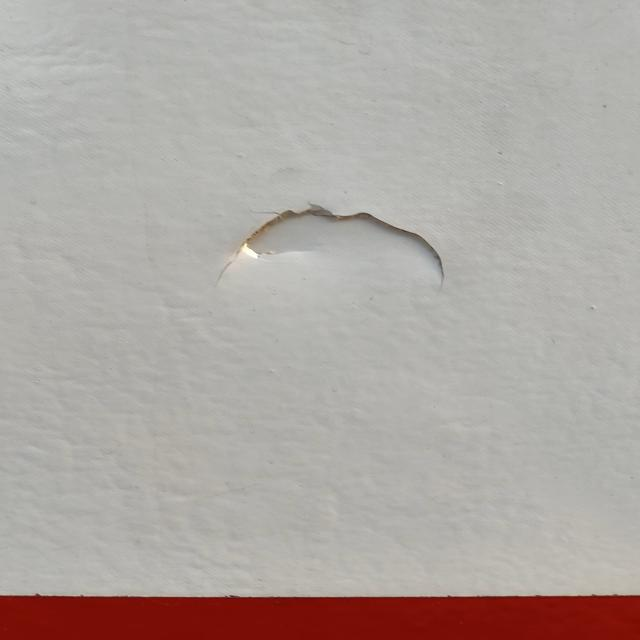Scratches: (213, 187, 459, 285)
